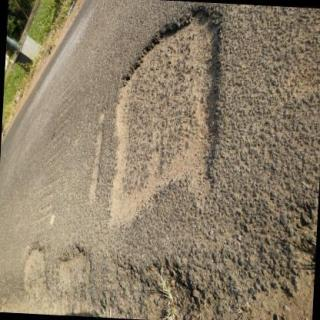pothole: (112, 5, 222, 228), (132, 267, 203, 320), (56, 246, 90, 298), (23, 246, 47, 298)
